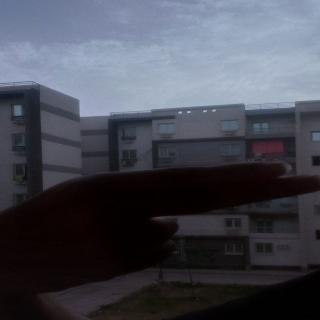AYN: (7, 157, 320, 286)
